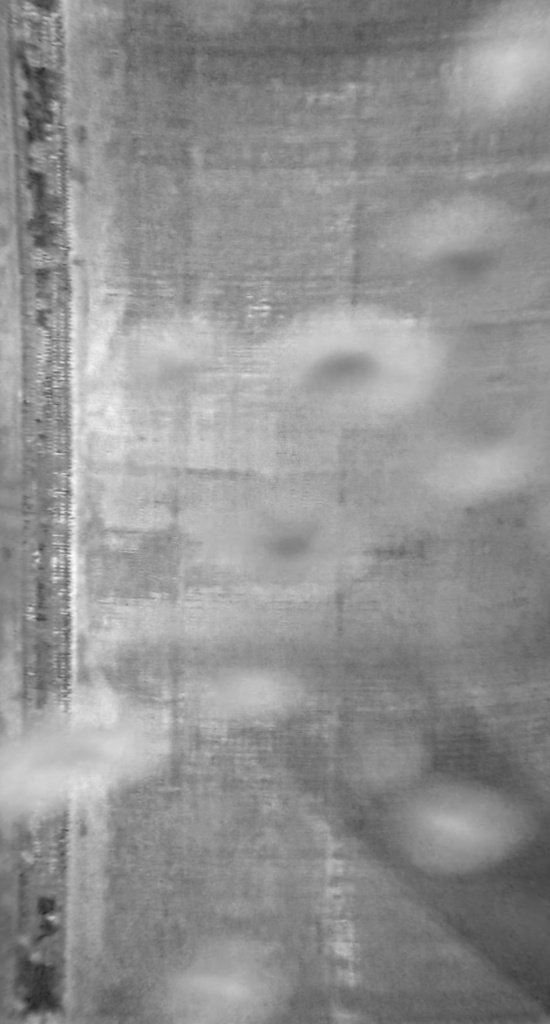splice: (1, 1, 97, 1023)
